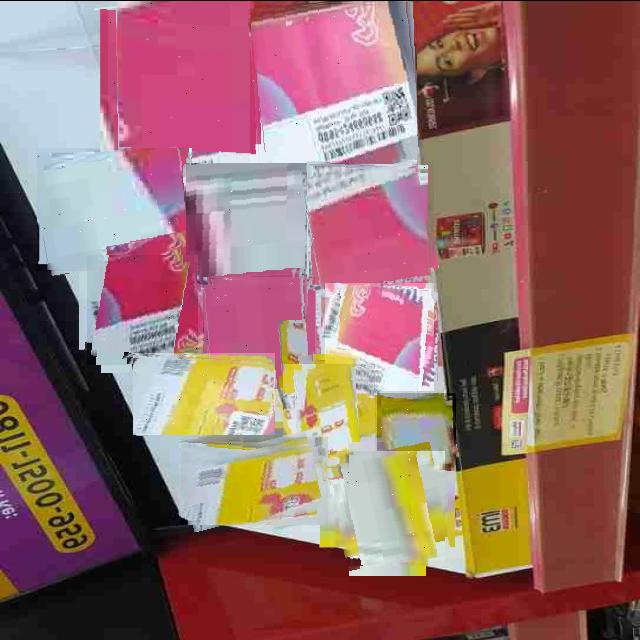Indosat-3: (250, 0, 417, 163), (108, 0, 271, 162), (37, 147, 192, 270), (307, 160, 434, 288), (186, 162, 314, 283), (203, 276, 315, 387), (87, 254, 198, 364), (325, 282, 434, 390)
im3: (330, 450, 445, 565), (181, 436, 328, 524), (133, 352, 275, 434), (283, 363, 375, 457), (377, 392, 456, 470)
